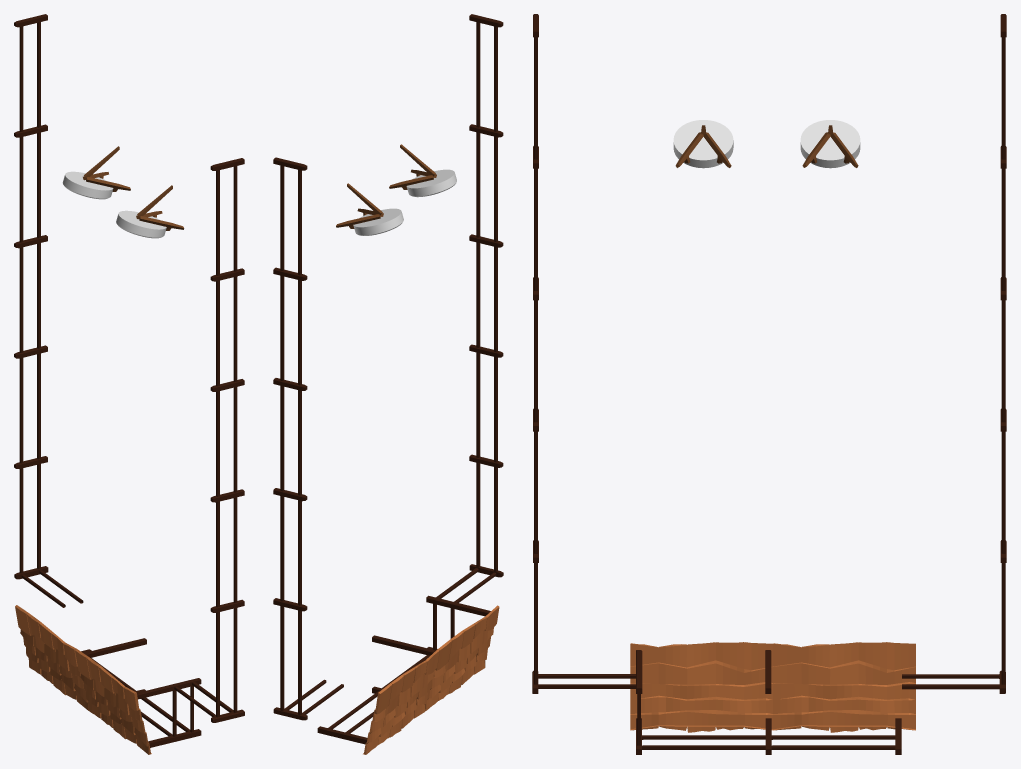
Rendered from ArcheryRange.fbx.
The picture shows the model from 3 angles, left to right: view 1: azimuth 30°, elevation 25°; view 2: azimuth 150°, elevation 25°; view 3: azimuth 270°, elevation 25°; orthographic projection. The views are drawn at different scales.
Visible parts, largest first — view 1: ShootingRange; view 2: ShootingRange; view 3: ShootingRange.
Boxes of the visible parts, bbox=[...] form: ShootingRange: bbox=[14, 14, 244, 754]; ShootingRange: bbox=[273, 14, 503, 754]; ShootingRange: bbox=[532, 14, 1006, 754].
Bounding box in the file's own units: 1938 × 3296 × 388.
